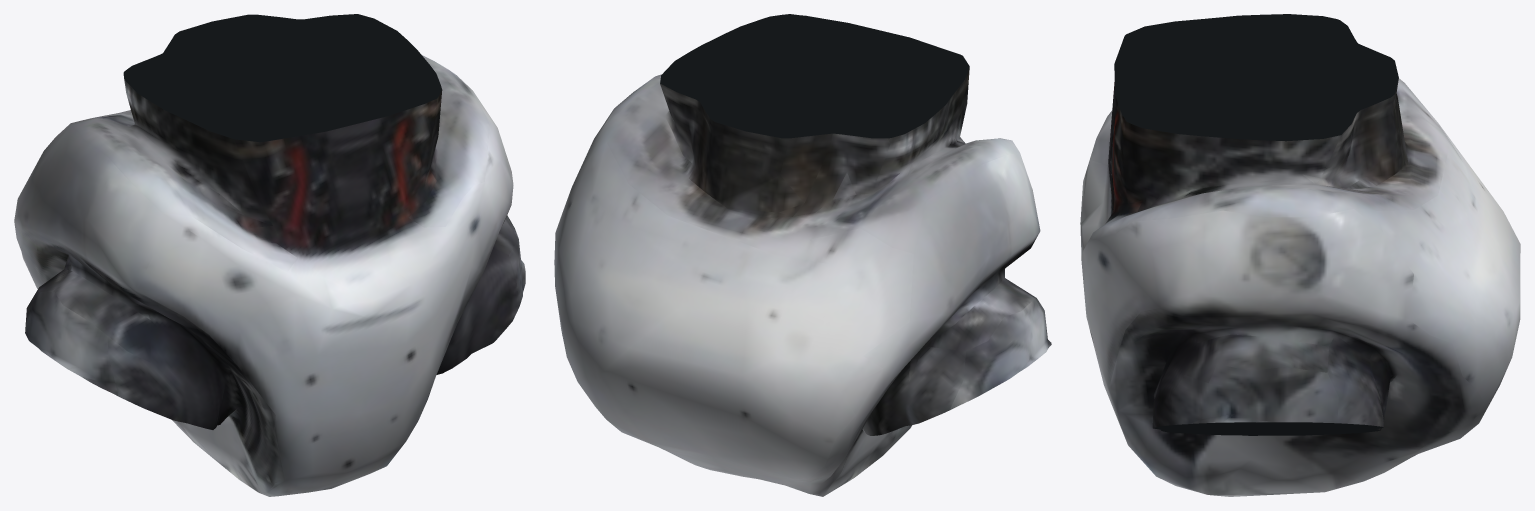
The model's file is pelvis.obj.
3 views of the same model, side by side, from view 1: azimuth 30°, elevation 25°; view 2: azimuth 150°, elevation 25°; view 3: azimuth 270°, elevation 25° (orthographic). The views are drawn at different scales.
Visible parts, largest first — view 1: pelvis; view 2: pelvis; view 3: pelvis.
Boxes of the visible parts, x1=… form: pelvis: x1=14, y1=14, x2=525, y2=496; pelvis: x1=554, y1=14, x2=1051, y2=496; pelvis: x1=1080, y1=14, x2=1520, y2=496.
Bounding box in the file's own units: 0.3742 × 0.31 × 0.3085.
Materials: 2 (1 with a texture image).
